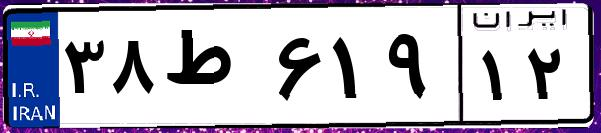1: (330, 28, 385, 110), (475, 38, 525, 113)
2: (525, 38, 570, 115)
3: (57, 26, 110, 100)
6: (270, 28, 330, 110)
8: (110, 28, 158, 98)
9: (385, 28, 445, 110)
ط: (158, 20, 270, 120)
